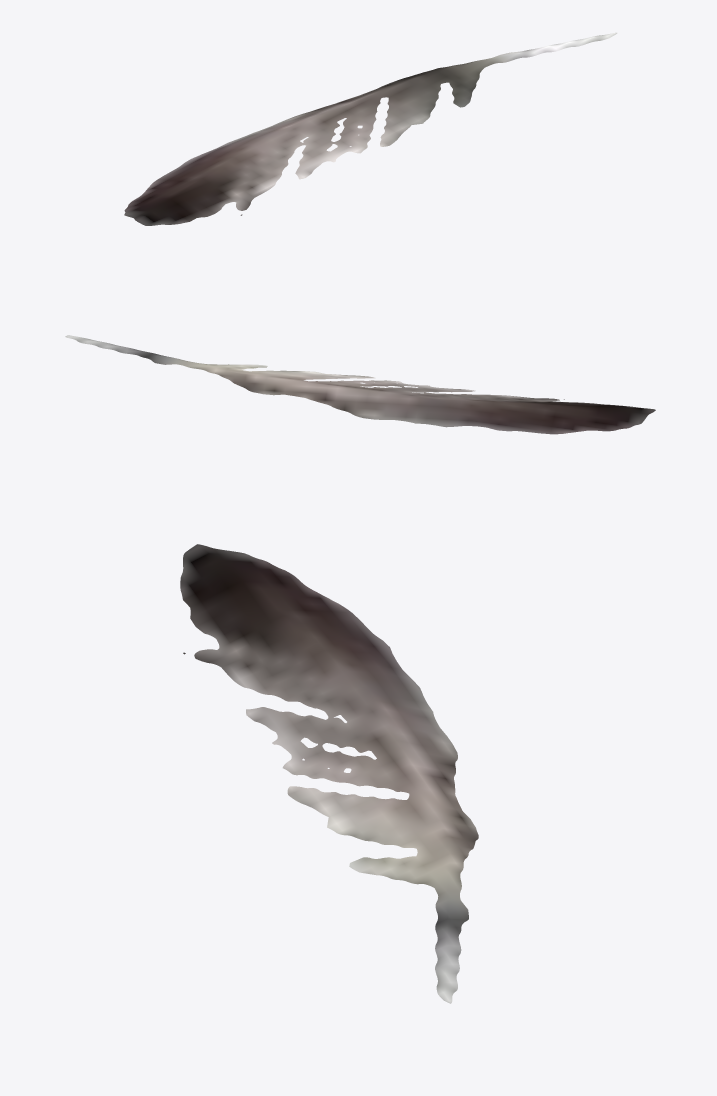
File: KM_FEATHER_01.glb
The picture shows the model from 3 angles, top to bottom: view 1: azimuth 30°, elevation 25°; view 2: azimuth 150°, elevation 25°; view 3: azimuth 270°, elevation 25°; orthographic projection. The views are drawn at different scales.
Visible parts, largest first — view 1: Mesh; view 2: Mesh; view 3: Mesh.
Boxes of the visible parts, bbox=[...] form: Mesh: bbox=[124, 32, 617, 225]; Mesh: bbox=[65, 335, 655, 434]; Mesh: bbox=[180, 544, 478, 1003].
Bounding box in the file's own units: 0.4256 × 0.0244 × 0.2392.
Materials: 1 (1 with a texture image).
